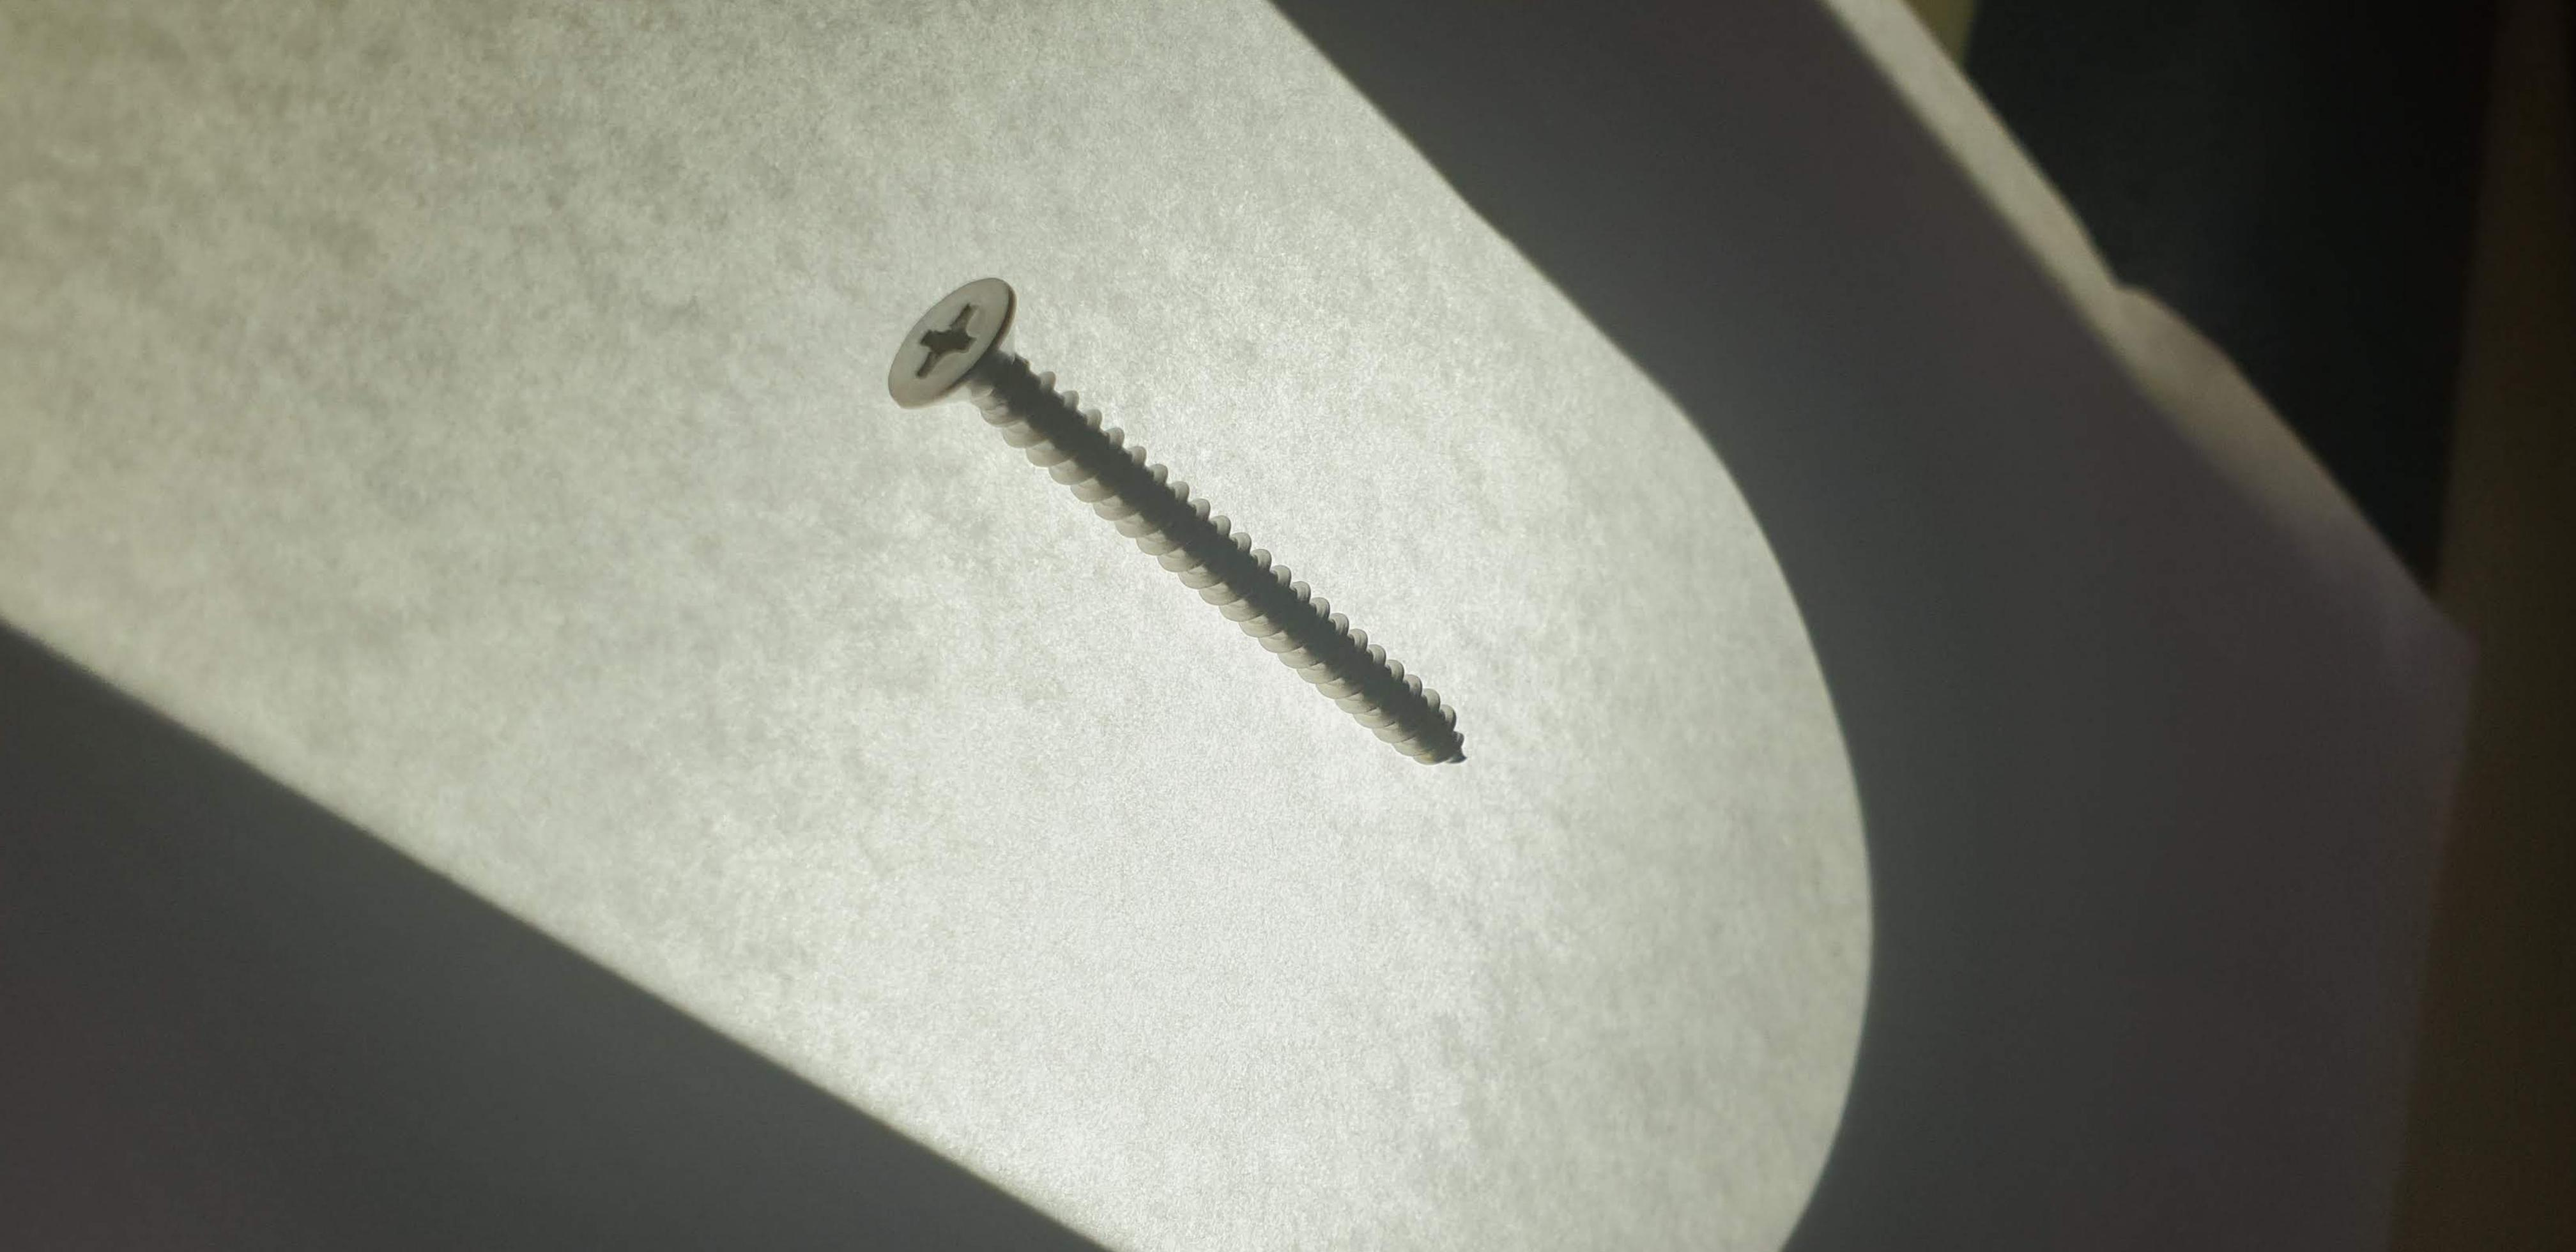S001: (741, 215, 1582, 889)
